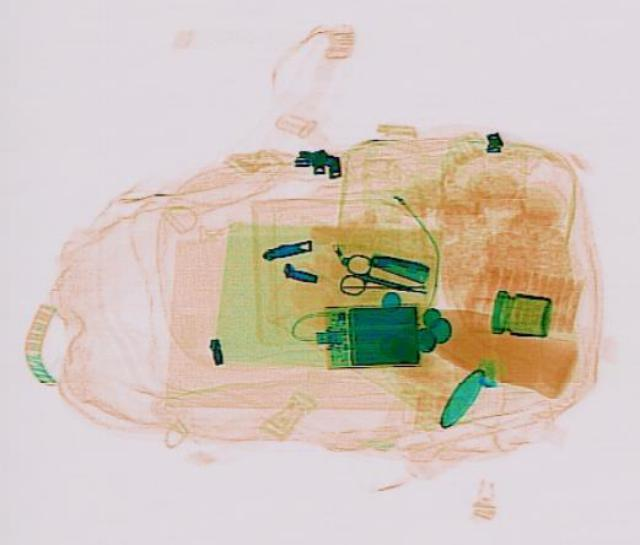Scissors: (331, 251, 429, 308)
